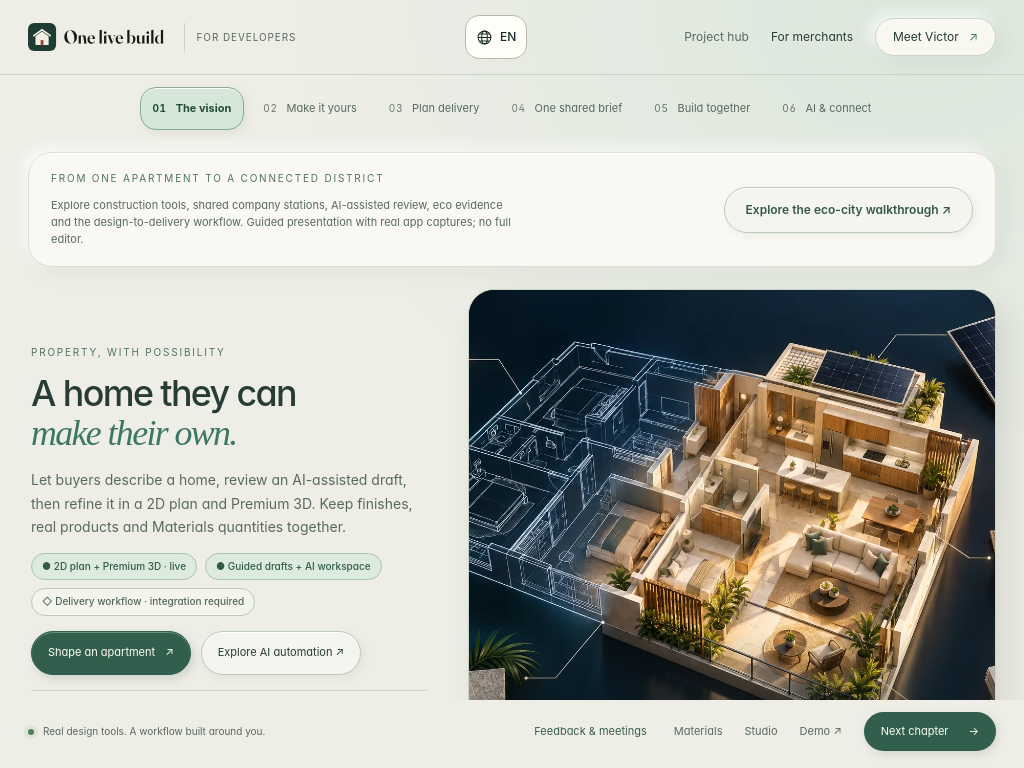
Test: interactive pitch chapters › updates the deadline simulation when the finish allowance changes
Click the tab "03 Plan delivery": x=434, y=108 [376,87,492,130]
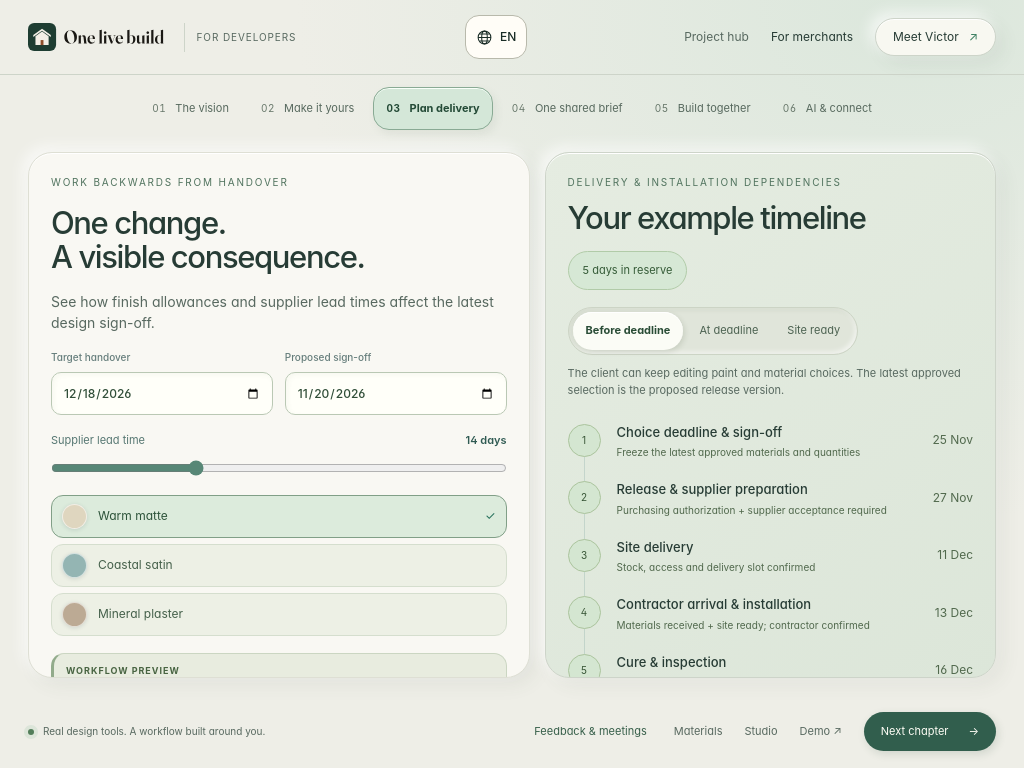
Expected: the text with test id "timing-result" reads "5 days in reserve", [583,263,672,277]
Click the button "Mineral plaster": x=141, y=614 [51,593,507,636]
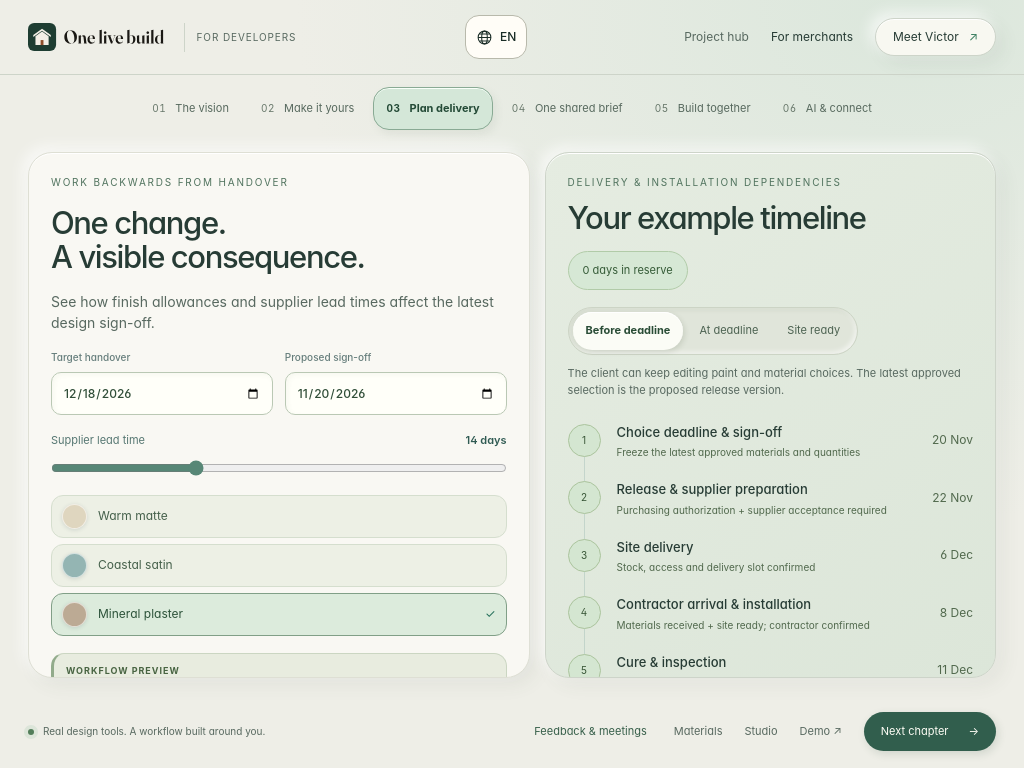
Expected: the text with test id "timing-result" reads "0 days in reserve", [583,263,673,277]
Click the button "At deadline": x=729, y=331 [686,312,771,350]
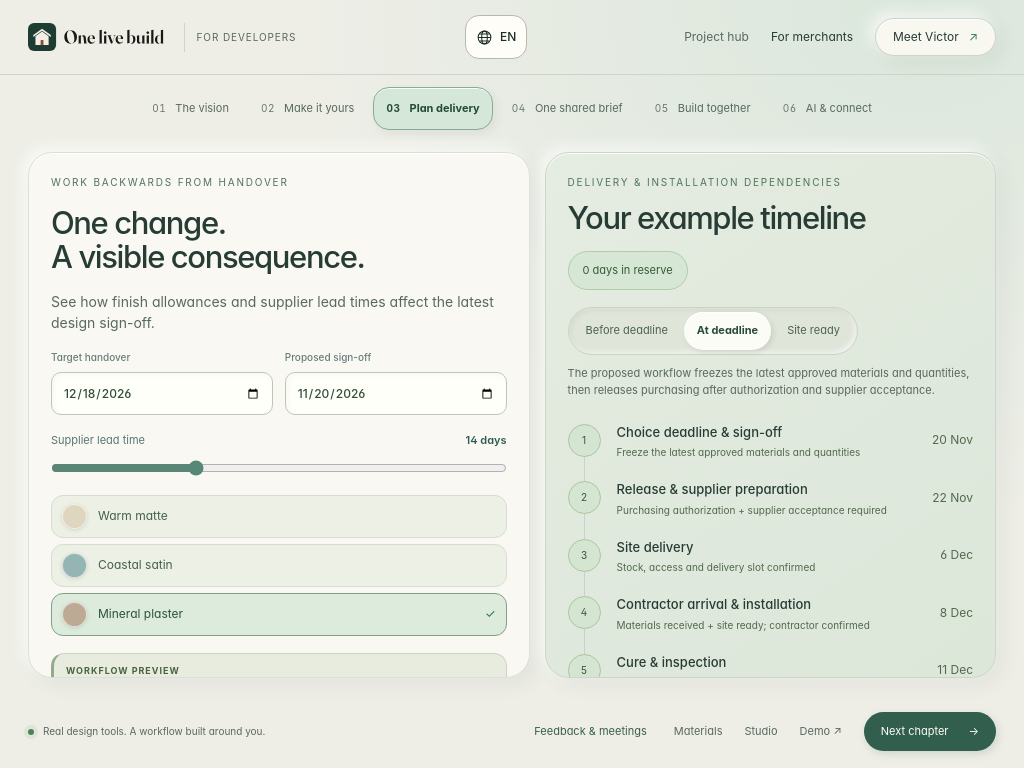
Expected: the element that starts with "Before deadline" shows "freezes the latest approved materials", [568,366,969,397]
Click the button "Site ready": x=814, y=331 [774,312,853,350]
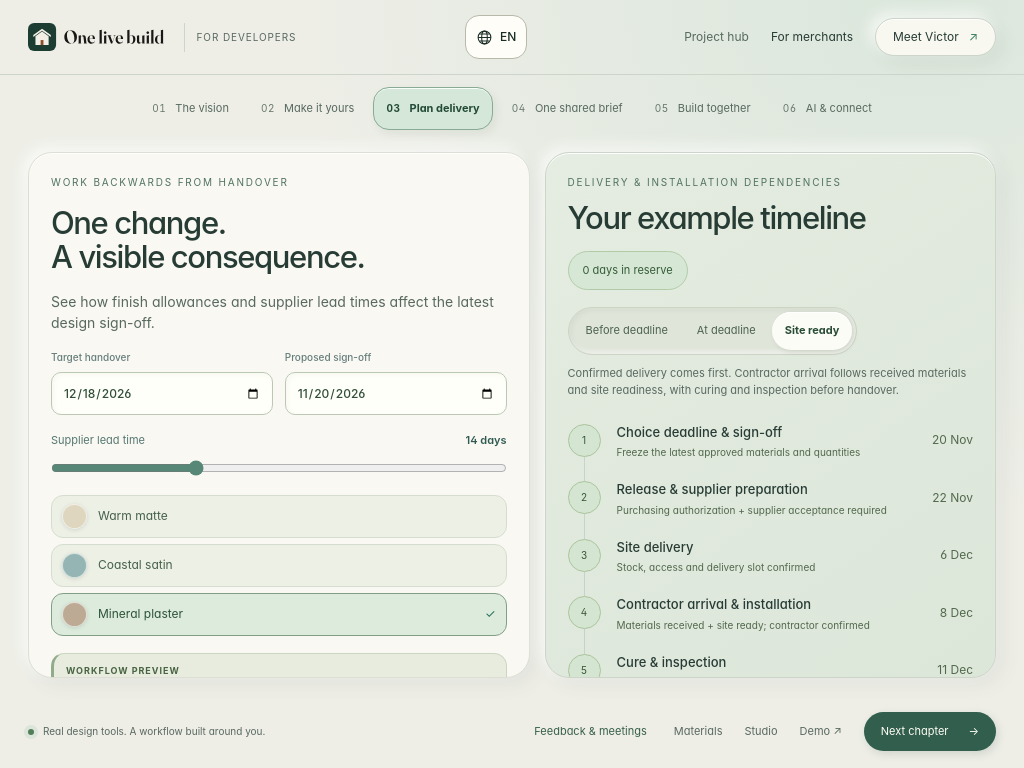
Expected: the element that starts with "Before deadline" shows "Contractor arrival follows received materials", [568,366,966,397]
